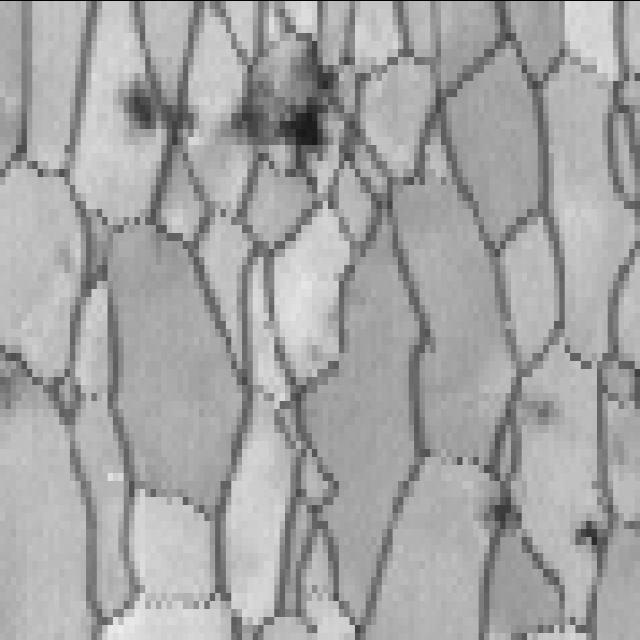good_void: (229, 6, 360, 185), (111, 63, 206, 154), (567, 506, 608, 565), (486, 474, 521, 541), (530, 377, 563, 446)
